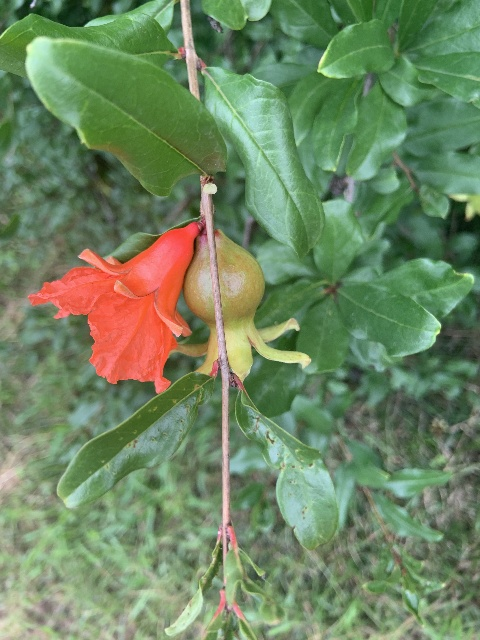early-fruit: (168, 230, 310, 382)
flower: (27, 222, 197, 394)
